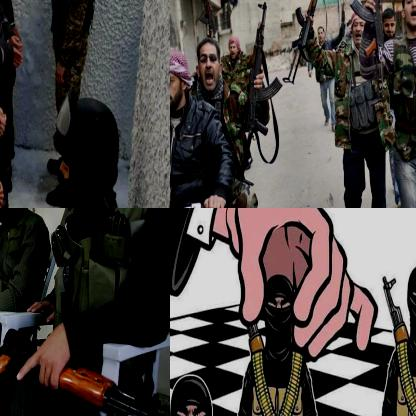rifle: (0, 326, 169, 415), (235, 0, 285, 187), (282, 0, 331, 86), (348, 0, 386, 57), (380, 271, 409, 343), (195, 0, 221, 45)
